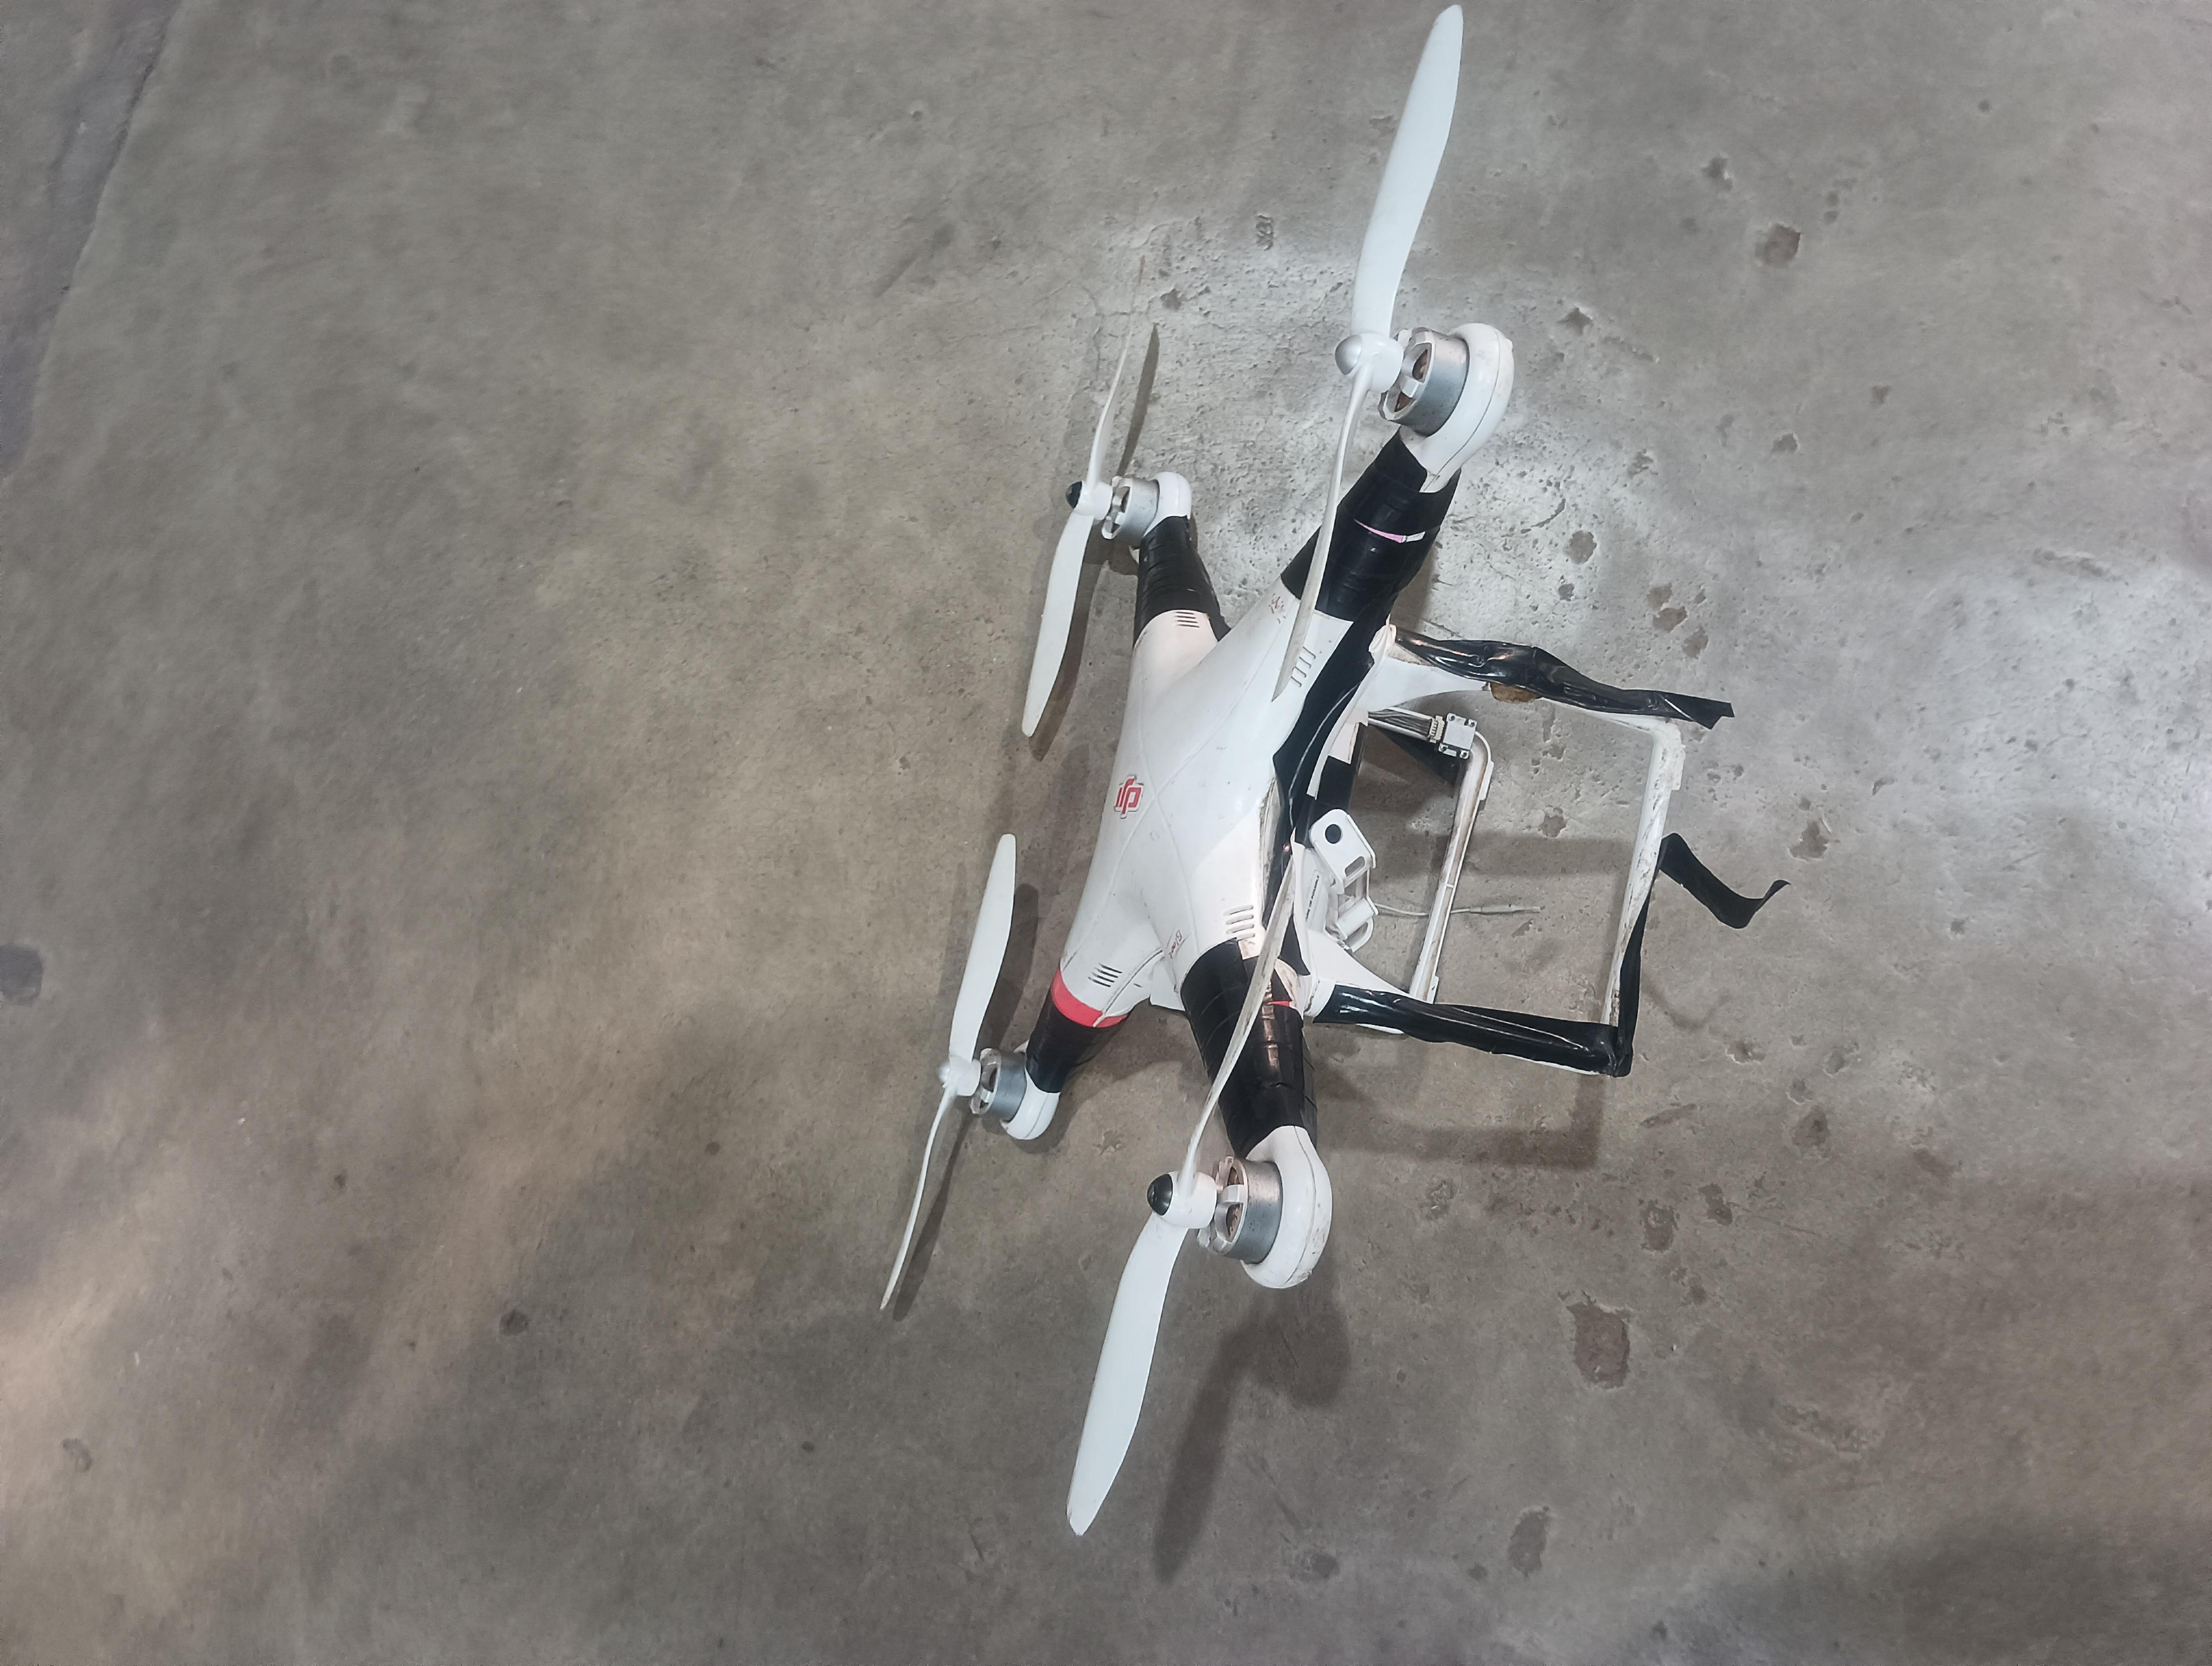drone: (733, 17, 1812, 1563)
